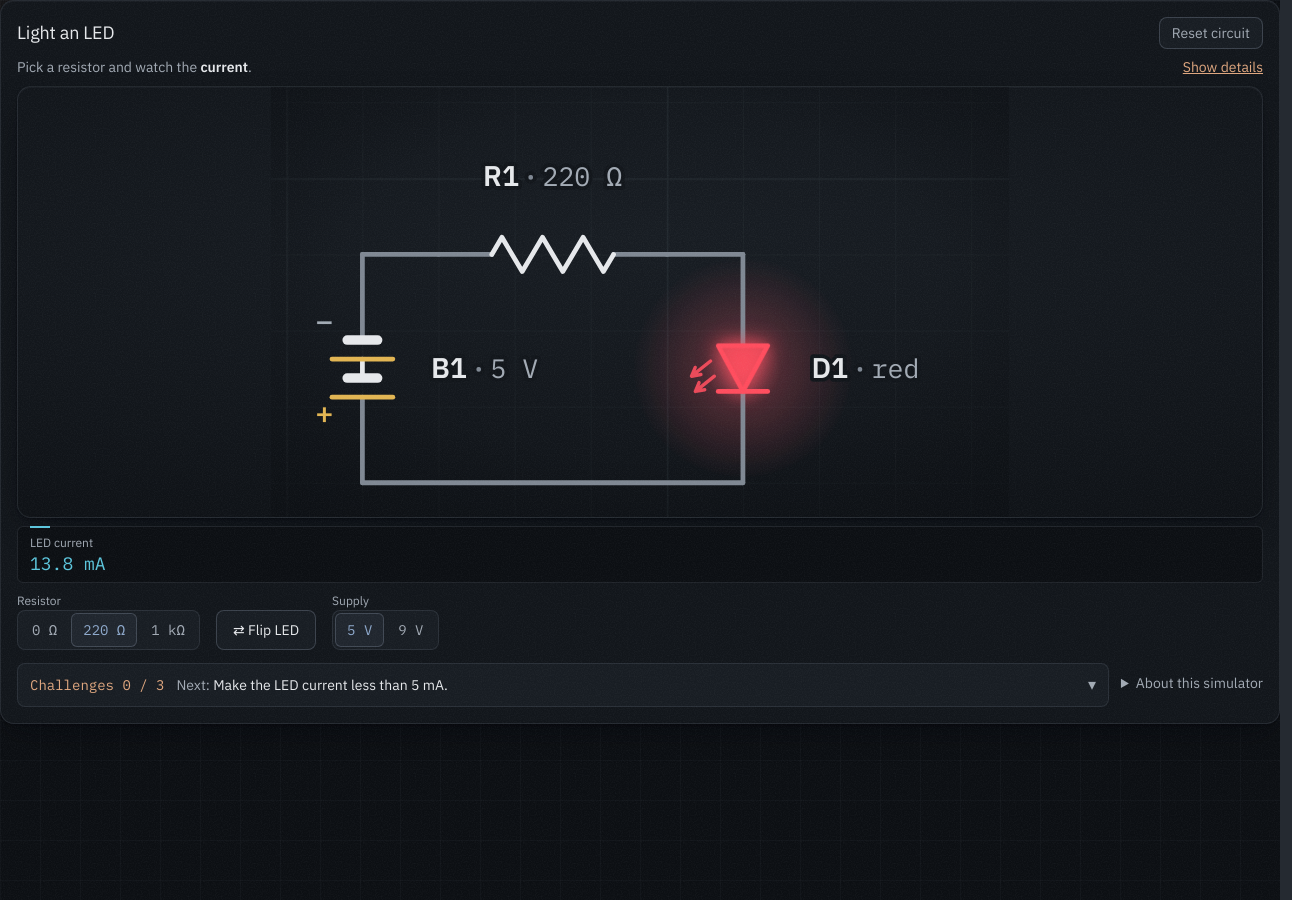
Scenario: Lab › warns when a part burns out and unlocks Magic Smoke
Click the radio button labelled "0 Ω": (45, 630) [32,621,57,639]
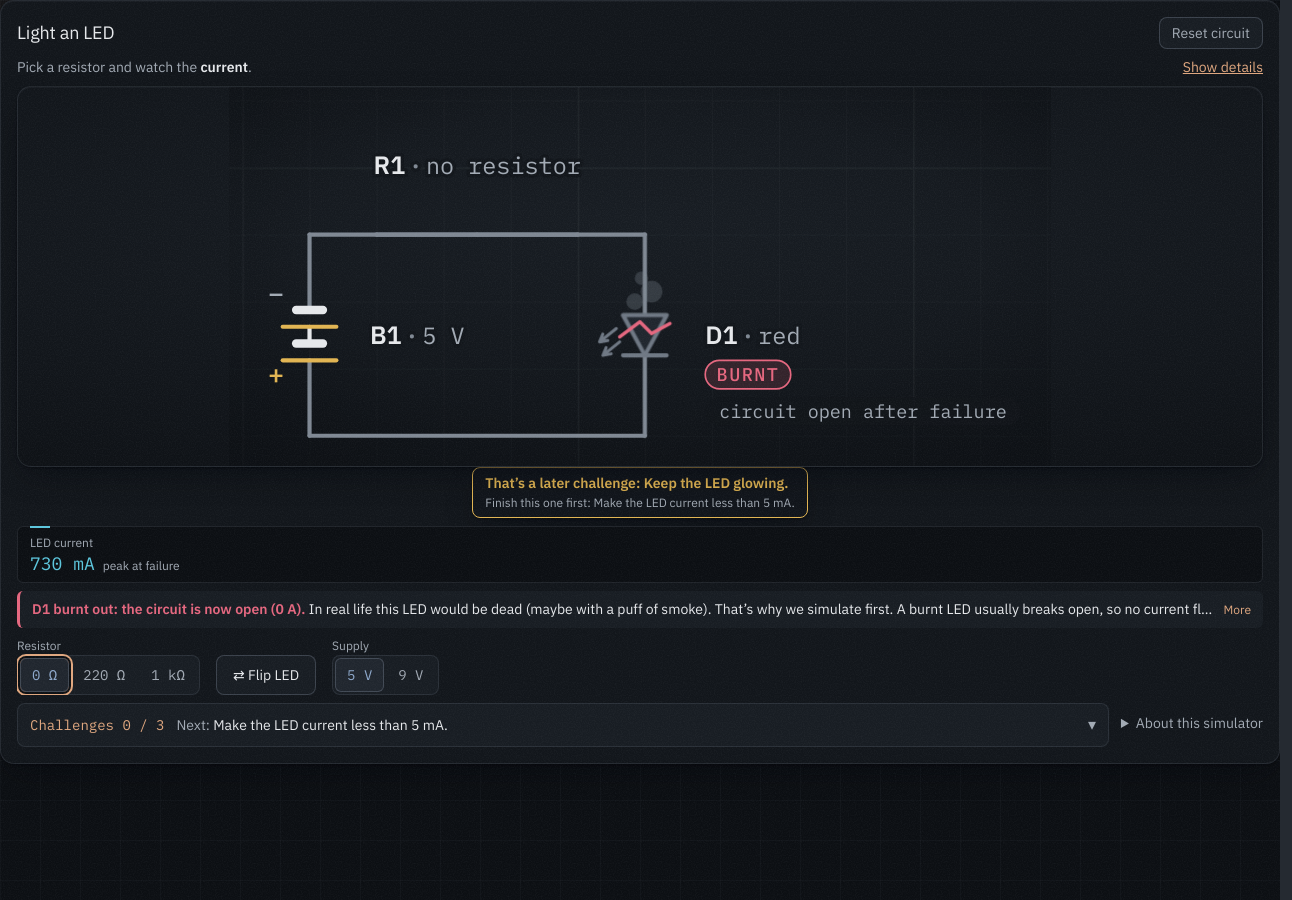
Expected: the 2nd message shows "would be dead", [427,600,946,618]
Expected: the 2nd message shows "D1 burnt out: the circuit is now open (0 A)", [32,600,306,618]
Expected: the message "LED current 730 mA peak at failure" is shown, [17,526,1263,583]
Click the button "More": (1237, 610) [1224,601,1251,619]
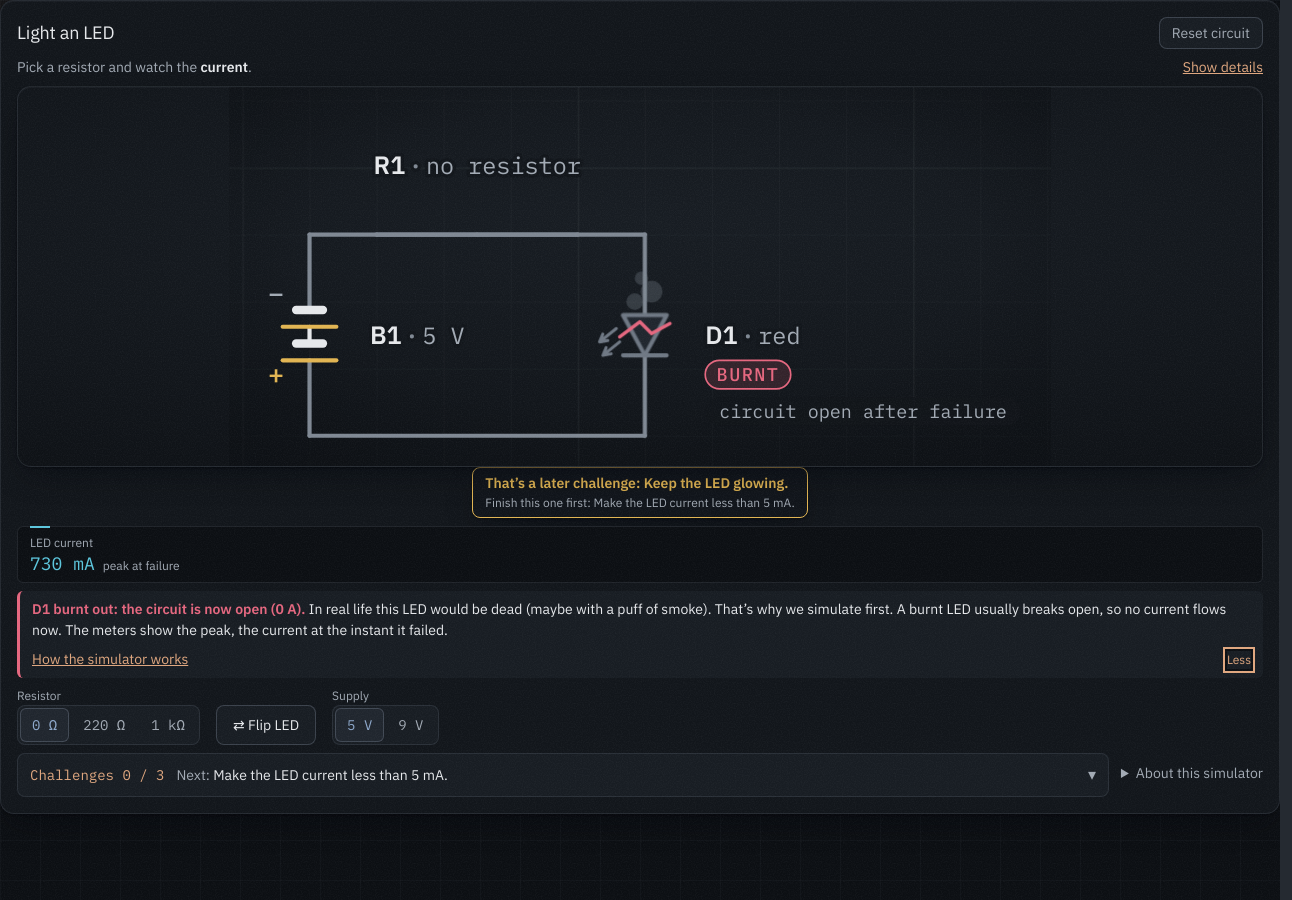
Expected: the button "Less" is expanded, [1227,651,1251,669]
